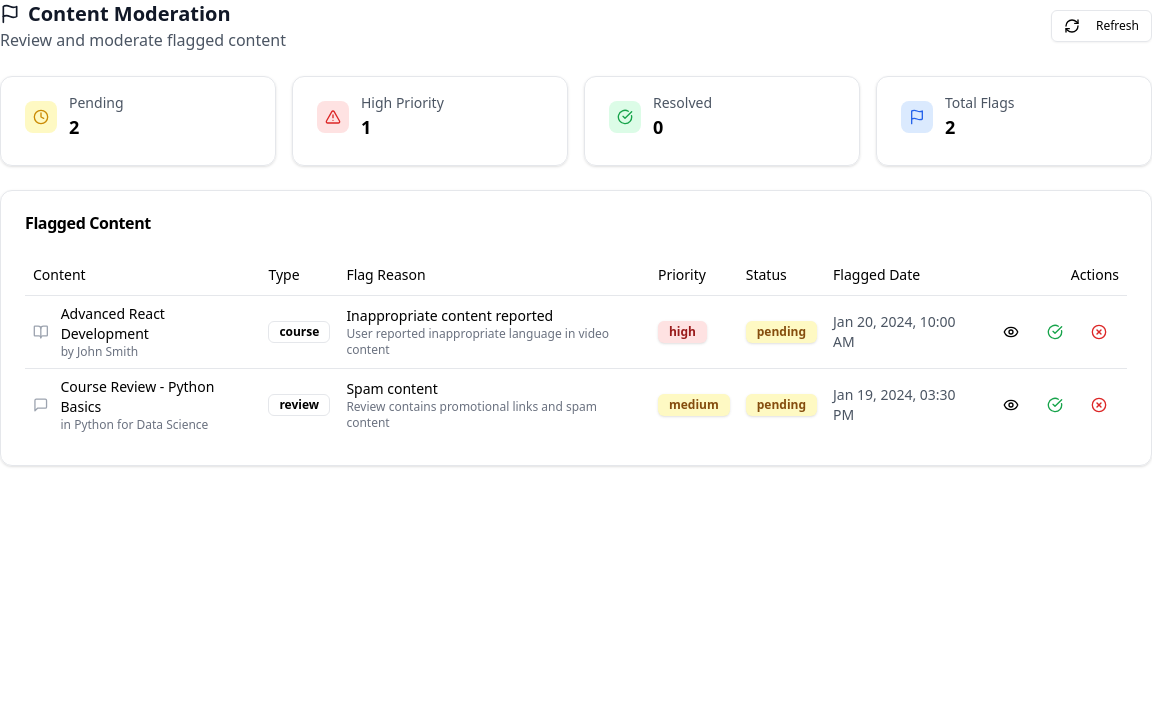
Test: ContentModerationPanel › handles remove content action
Click the button titled "Remove Content" in the row of "Advanced React Development": [1099, 332] box [1079,316,1119,348]
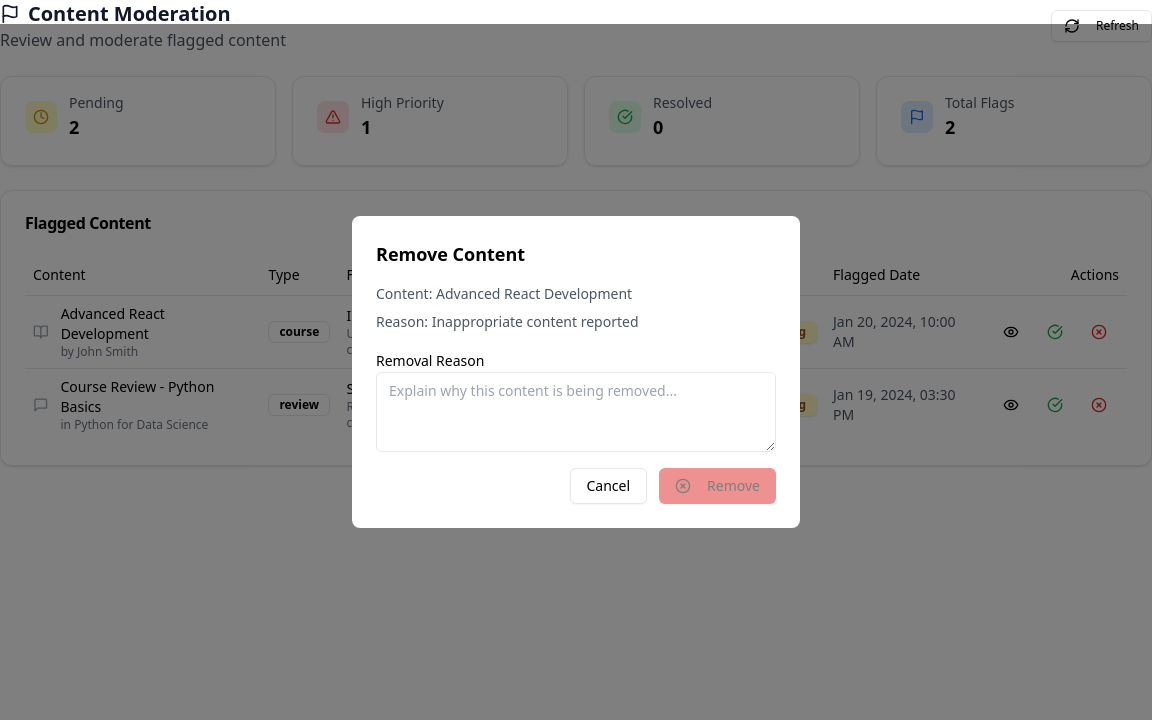
Expected: the heading "Remove Content" is shown, [376,242,525,266]
Expected: the text "Content: Advanced React Development" is shown, [376,284,632,303]
